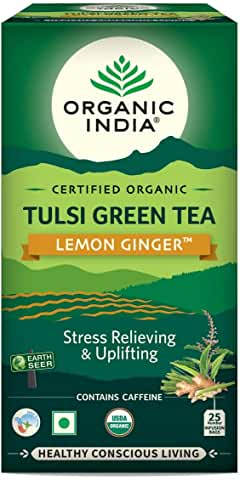veg: (50, 409, 81, 438)
